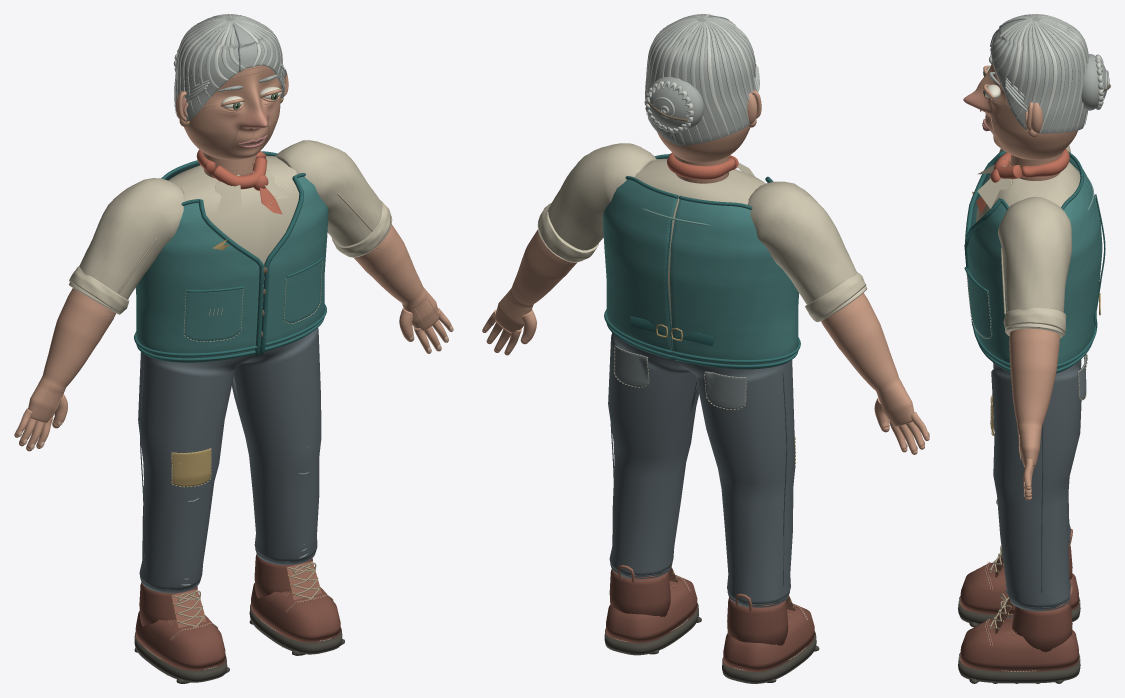
The picture shows the model from 3 angles, left to right: view 1: azimuth 30°, elevation 25°; view 2: azimuth 150°, elevation 25°; view 3: azimuth 270°, elevation 25°; orthographic projection.
Visible parts, largest first — view 1: Trousers / continuous joined waist and legs, Waistcoat / tailored front and back shell, Right shirt sleeve, Left shirt sleeve, Head / sculpted cheek jaw and forehead surface, Shirt / complete torso, Right forearm and palm, Left forearm and palm, Hair / fitted silver cap, Right boot / upper, Left boot / upper, Right waistcoat patch pocket (+15 smaller); view 2: Trousers / continuous joined waist and legs, Waistcoat / tailored front and back shell, Right shirt sleeve, Left shirt sleeve, Right forearm and palm, Hair / fitted silver cap, Left forearm and palm, Shirt / complete torso, Left boot / upper, Right boot / upper, Right boot / ankle shaft, Left boot / ankle shaft (+10 smaller); view 3: Trousers / continuous joined waist and legs, Waistcoat / tailored front and back shell, Left shirt sleeve, Left forearm and palm, Hair / fitted silver cap, Left boot / upper, Head / sculpted cheek jaw and forehead surface, Right boot / upper, Left boot / ankle shaft, Shirt / complete torso, Left boot / sole, Left rolled cuff upper (+25 smaller).
Boxes of the visible parts, box(x1,y1,x2,y2) form: Trousers / continuous joined waist and legs: box(138, 328, 321, 593); Waistcoat / tailored front and back shell: box(135, 155, 328, 362); Right shirt sleeve: box(79, 178, 185, 299); Left shirt sleeve: box(275, 140, 382, 246); Head / sculpted cheek jaw and forehead surface: box(184, 65, 280, 160); Shirt / complete torso: box(168, 155, 299, 307); Right forearm and palm: box(28, 288, 115, 422); Left forearm and palm: box(354, 224, 438, 330); Hair / fitted silver cap: box(175, 18, 284, 121); Right boot / upper: box(135, 611, 225, 670); Left boot / upper: box(251, 583, 340, 642); Right waistcoat patch pocket: box(183, 288, 242, 341); Trousers / continuous joined waist and legs: box(608, 333, 795, 607); Waistcoat / tailored front and back shell: box(603, 157, 799, 369); Right shirt sleeve: box(747, 181, 856, 304); Left shirt sleeve: box(548, 143, 656, 250); Right forearm and palm: box(821, 293, 914, 426); Hair / fitted silver cap: box(646, 15, 754, 145); Left forearm and palm: box(495, 229, 577, 333); Shirt / complete torso: box(634, 158, 765, 349); Left boot / upper: box(605, 575, 697, 643); Right boot / upper: box(723, 603, 814, 671); Right boot / ankle shaft: box(727, 597, 788, 645); Left boot / ankle shaft: box(609, 569, 670, 616); Trousers / continuous joined waist and legs: box(991, 359, 1081, 611); Waistcoat / tailored front and back shell: box(968, 157, 1102, 373); Left shirt sleeve: box(998, 196, 1071, 312); Left forearm and palm: box(1009, 328, 1059, 467); Hair / fitted silver cap: box(990, 17, 1086, 133); Left boot / upper: box(960, 617, 1079, 671); Head / sculpted cheek jaw and forehead surface: box(963, 61, 1077, 159); Right boot / upper: box(960, 562, 1079, 615); Left boot / ankle shaft: box(1012, 602, 1072, 652); Shirt / complete torso: box(976, 162, 1080, 222); Left boot / sole: box(958, 652, 1080, 683); Left rolled cuff upper: box(1003, 308, 1066, 336).
Bounding box in the file's own units: 1.2 × 1.63 × 0.3616.
